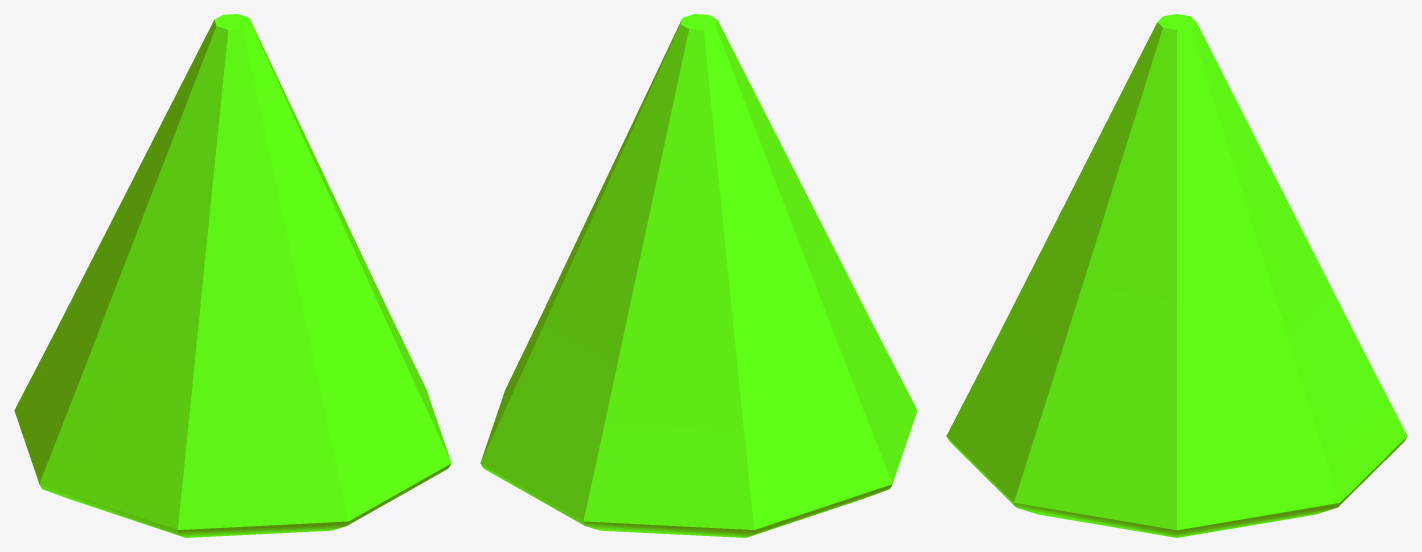
The model's file is btree.fbx.
3 views of the same model, side by side, from view 1: azimuth 30°, elevation 25°; view 2: azimuth 150°, elevation 25°; view 3: azimuth 270°, elevation 25° (orthographic).
Parts seen in each view (by area): view 1: btree; view 2: btree; view 3: btree.
Part boxes in pixels (<box>): btree: <box>14,14,451,537</box>; btree: <box>480,14,917,537</box>; btree: <box>946,14,1407,537</box>.
Bounding box in the file's own units: 47.69 × 51.37 × 49.3.
